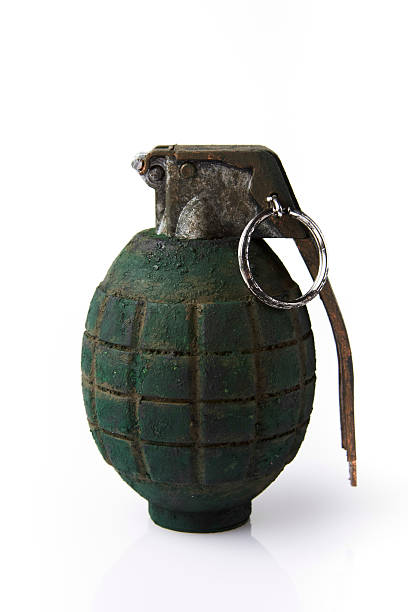e1: (80, 143, 360, 532)
